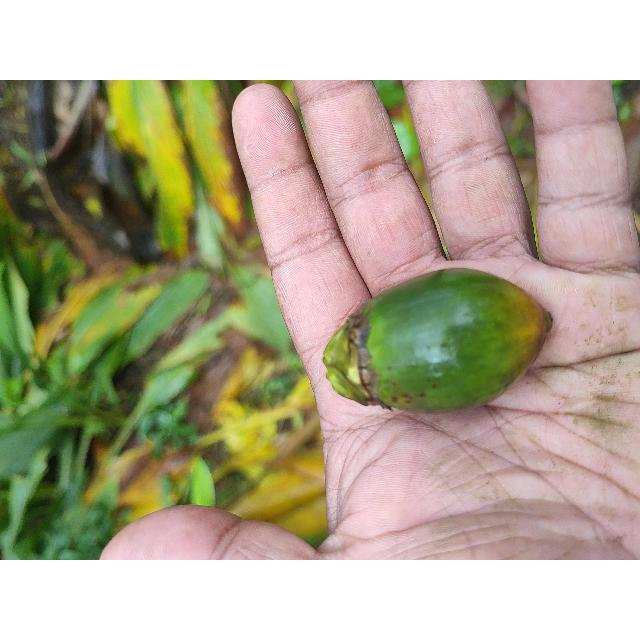damaged: (323, 269, 553, 415)
